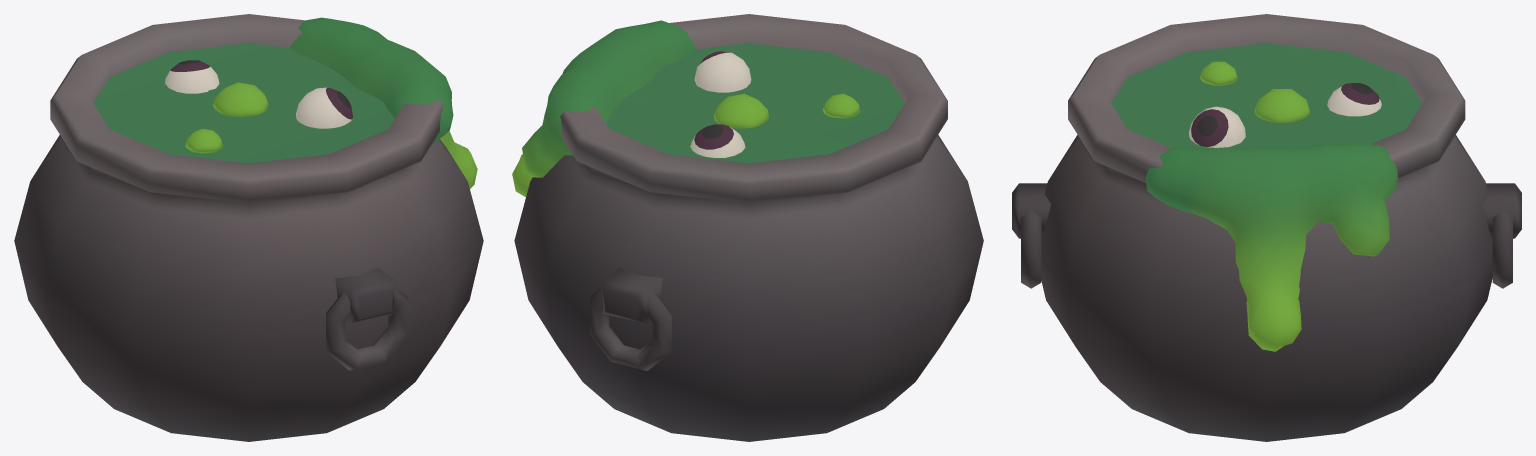
The model's file is caldron02.glb.
3 views of the same model, side by side, from view 1: azimuth 30°, elevation 25°; view 2: azimuth 150°, elevation 25°; view 3: azimuth 270°, elevation 25° (orthographic).
Visible parts, largest first — view 1: Caldron.02; view 2: Caldron.02; view 3: Caldron.02.
Boxes of the visible parts, bbox=[...] form: Caldron.02: bbox=[14, 14, 483, 441]; Caldron.02: bbox=[512, 14, 983, 441]; Caldron.02: bbox=[1012, 14, 1521, 441].
Size of the model in its own units: 5.68 by 3.88 by 5.8.
Materials: 2 (2 with a texture image).
